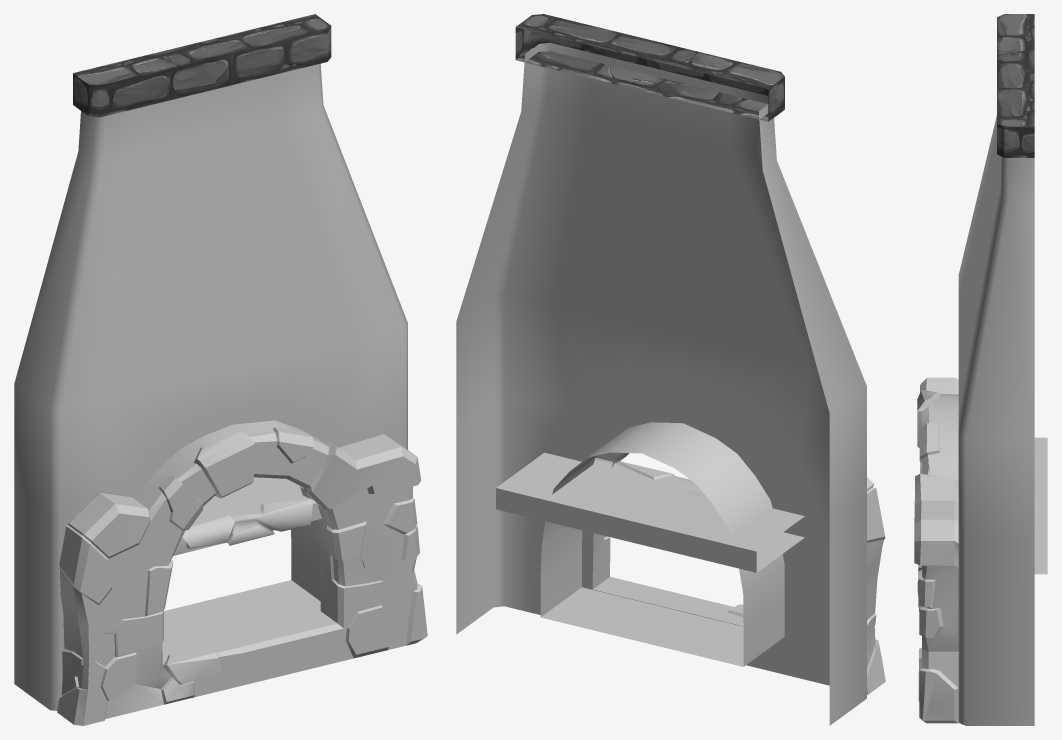
The model's file is PROP_fireplace.fbx.
3 views of the same model, side by side, from view 1: azimuth 30°, elevation 25°; view 2: azimuth 150°, elevation 25°; view 3: azimuth 270°, elevation 25° (orthographic). The views are drawn at different scales.
Parts seen in each view (by area): view 1: fireplace; view 2: fireplace; view 3: fireplace.
Boxes of the visible parts, x1=… form: fireplace: x1=14, y1=14, x2=427, y2=725; fireplace: x1=456, y1=14, x2=885, y2=725; fireplace: x1=914, y1=14, x2=1047, y2=725.
Size of the model in its own units: 82.33 by 27.7 by 131.
